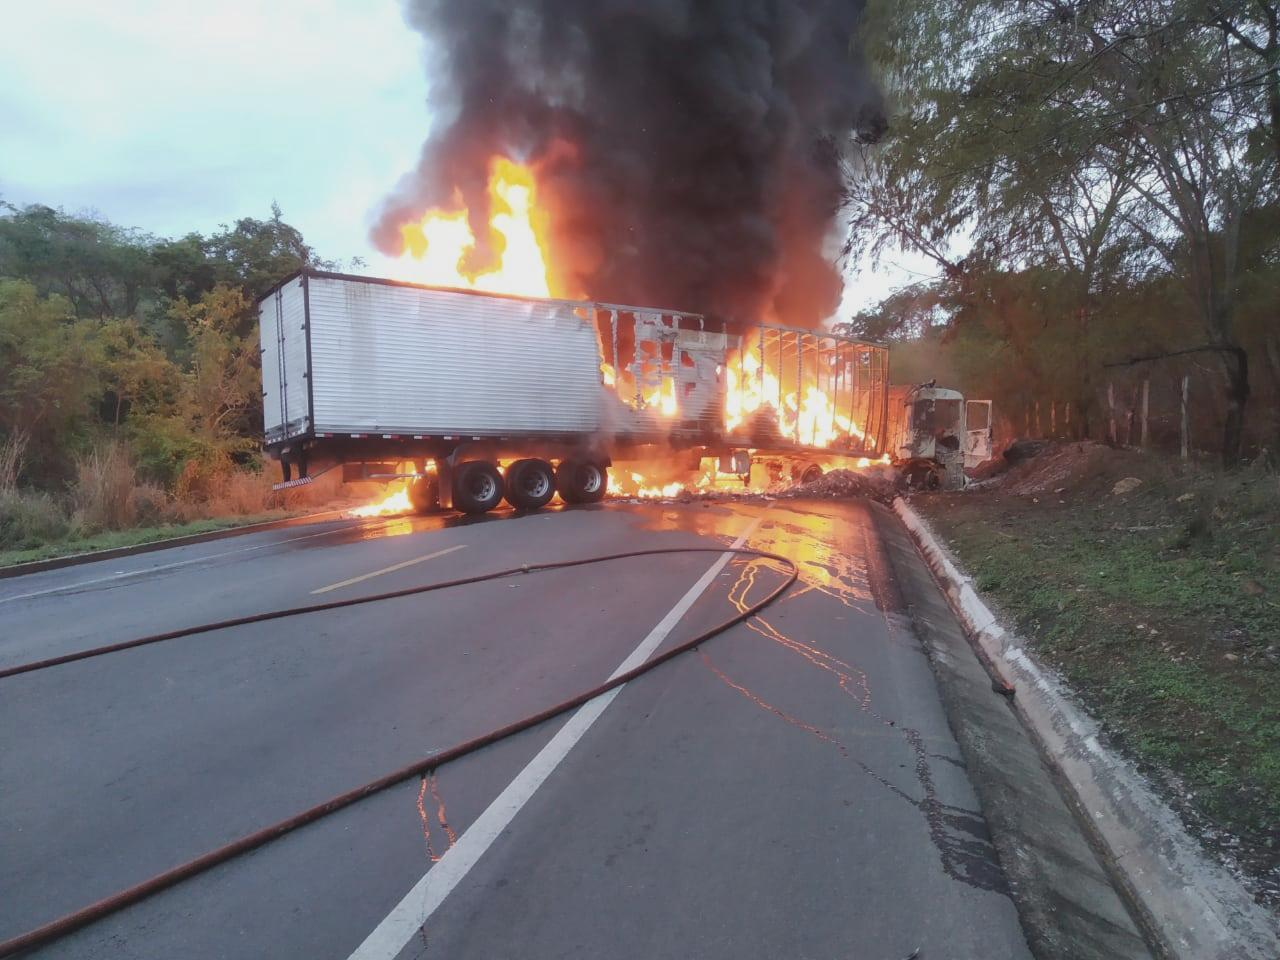Fire: (405, 164, 559, 301), (717, 354, 876, 448), (613, 458, 747, 499), (354, 464, 427, 517), (640, 377, 683, 419), (855, 454, 894, 469), (599, 360, 619, 389)
